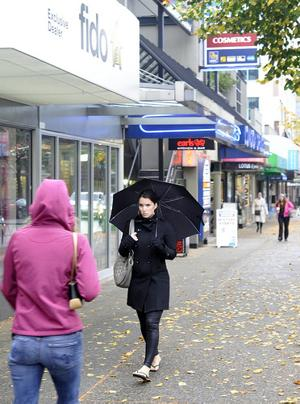person: (119, 190, 177, 380)
